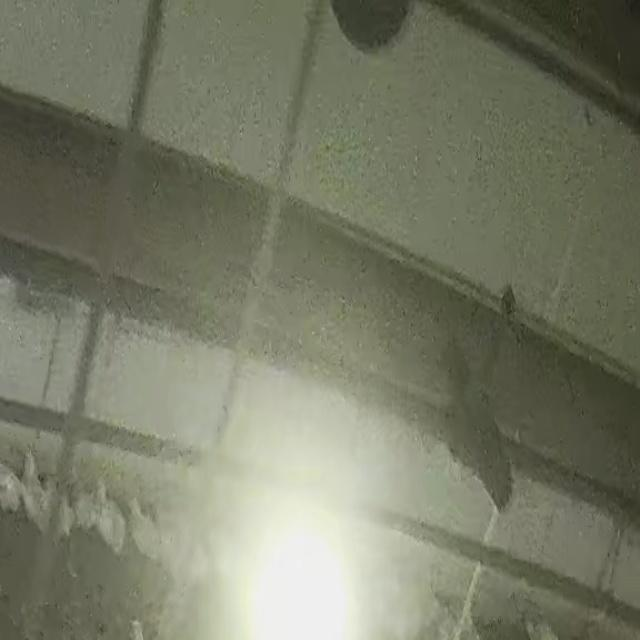chicken: (90, 490, 122, 549), (22, 453, 48, 524), (125, 504, 157, 560), (0, 461, 21, 508)
